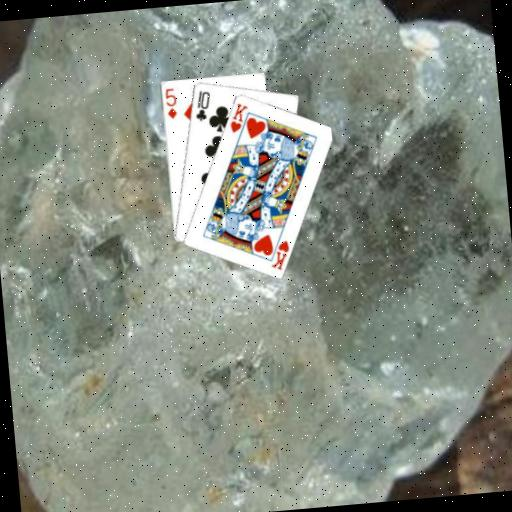10C: (190, 86, 213, 123)
5D: (162, 86, 180, 121)
KH: (225, 99, 251, 134), (266, 237, 292, 272)
